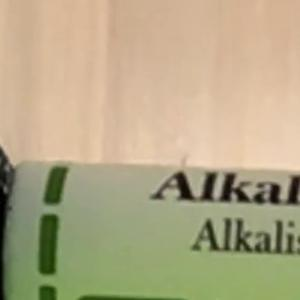ALK: (182, 208, 242, 262)
